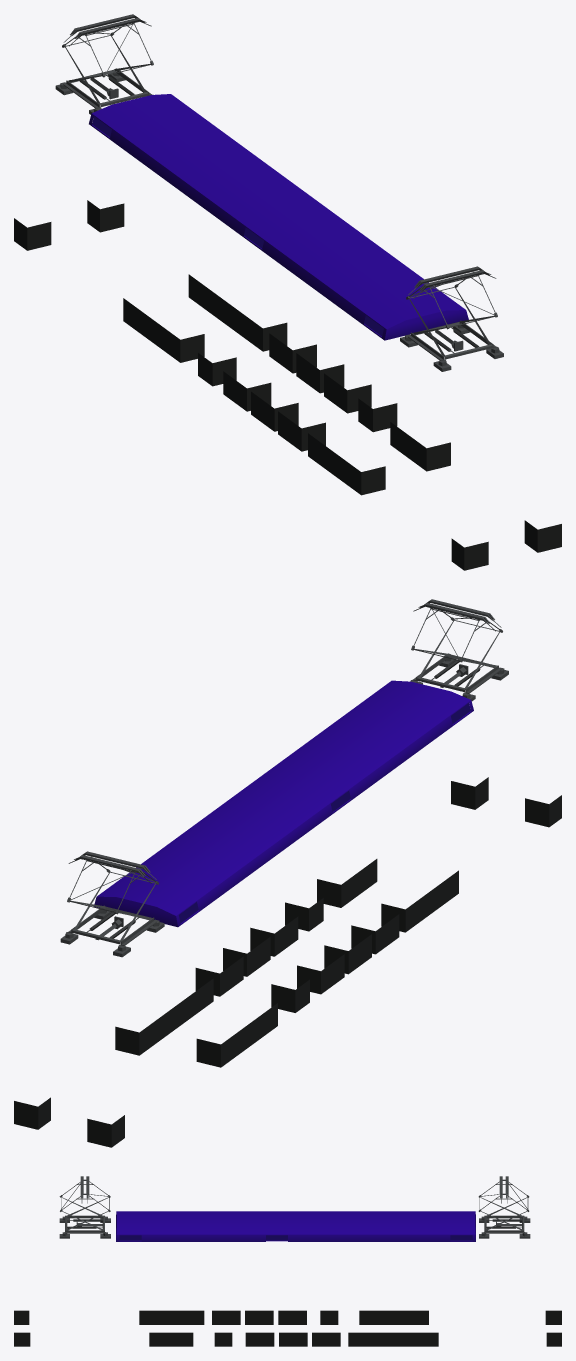
The model's file is RAPID_PANTA00.glb.
3 renders of one model, top to bottom at view 1: azimuth 30°, elevation 25°; view 2: azimuth 150°, elevation 25°; view 3: azimuth 270°, elevation 25°, orthographic. The views are drawn at different scales.
Parts seen in each view (by area): view 1: Mesh1; view 2: Mesh1; view 3: Mesh1.
Boxes of the visible parts, x1,y1,x2,y2 form: Mesh1: (14,14,561,570); Mesh1: (14,599,561,1147); Mesh1: (14,1176,561,1346).
Size of the model in its own units: 5.27 by 12.42 by 42.14.
3 materials, 3 textured.
